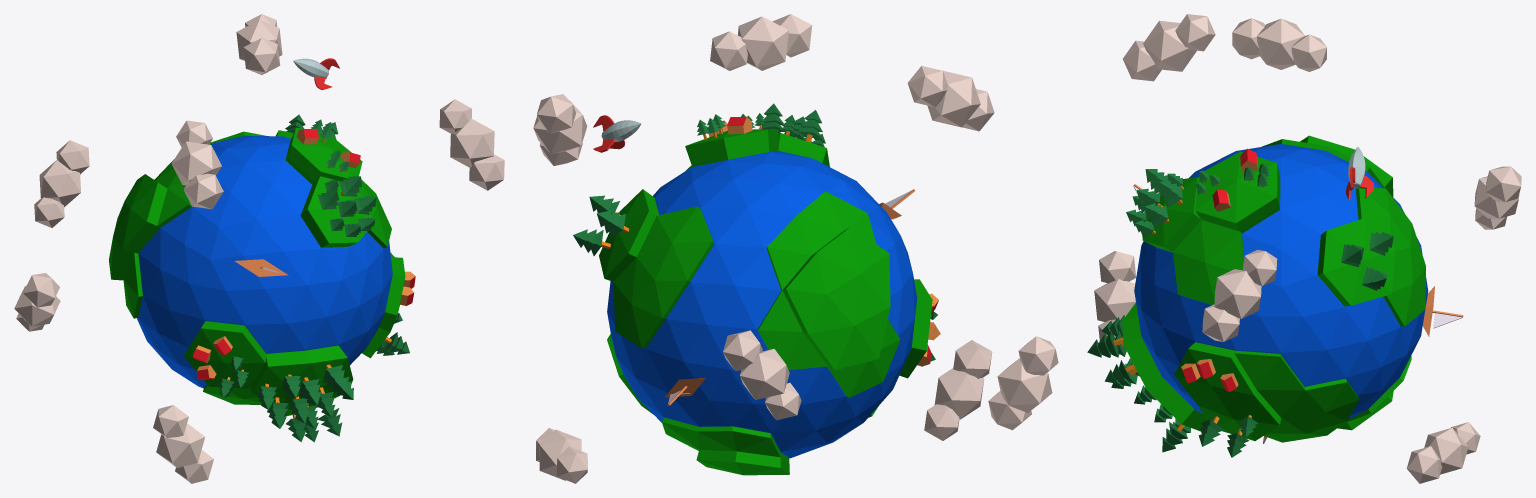
The model's file is planet.glb.
3 renders of one model, left to right at view 1: azimuth 30°, elevation 25°; view 2: azimuth 150°, elevation 25°; view 3: azimuth 270°, elevation 25°, orthographic. The views are drawn at different scales.
Visible parts, largest first — view 1: planet, clouds, rocket; view 2: planet, clouds, rocket; view 3: planet, clouds, rocket.
Boxes of the visible parts, box(x1,y1,x2,y2) form: planet: box(109, 114, 415, 442); clouds: box(14, 14, 504, 483); rocket: box(293, 58, 339, 89); planet: box(573, 103, 940, 475); clouds: box(533, 14, 1058, 483); rocket: box(593, 115, 641, 152); planet: box(1087, 135, 1463, 457); clouds: box(1094, 14, 1521, 483); rocket: box(1346, 146, 1373, 200).
Bounding box in the file's own units: 3.94 × 3.36 × 3.13.
